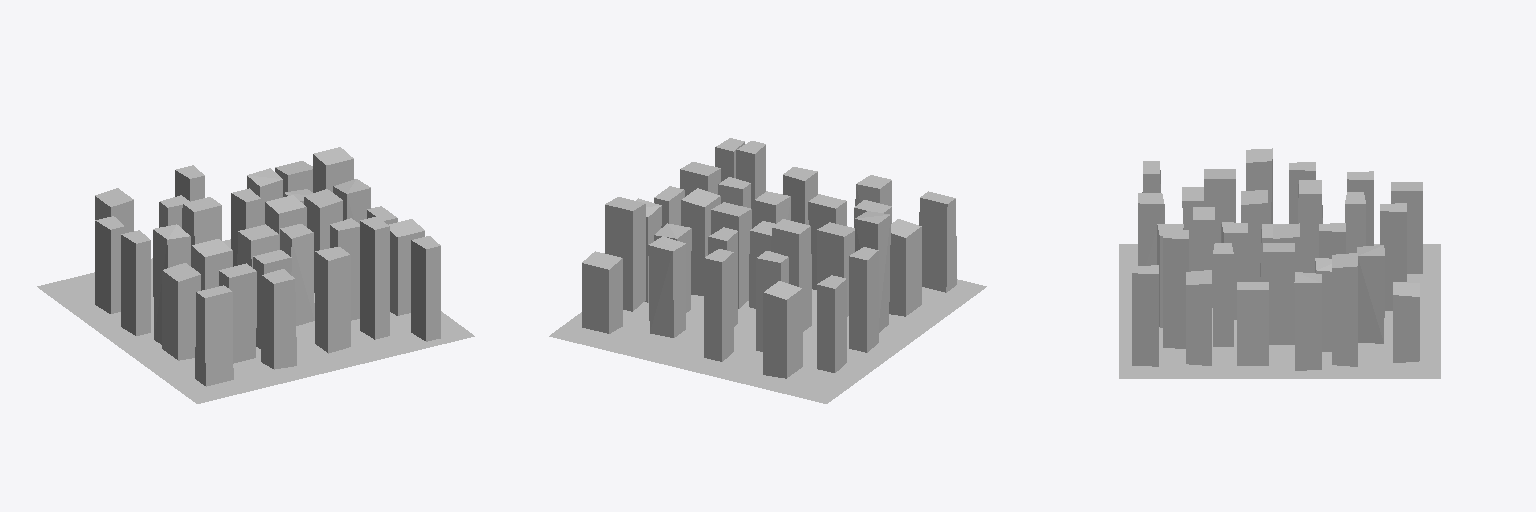
Rendered from StressTest.obj.
The picture shows the model from 3 angles: view 1: azimuth 30°, elevation 25°; view 2: azimuth 150°, elevation 25°; view 3: azimuth 270°, elevation 25°; orthographic projection.
Visible parts, largest first — view 1: Plane, Cube.002, Cube.007, Cube.010, Cube.008, Cube.006, Cube.020, Cube.011, Cube.001, Cube.022, Cube.004, Cube.012 (+16 smaller); view 2: Plane, Cube.024, Cube.026, Cube.028, Cube.007, Cube.025, Cube.027, Cube.020, Cube.006, Cube.022, Cube.019, Cube.013 (+17 smaller); view 3: Plane, Cube.028, Cube.013, Cube.010, Cube.011, Cube.014, Cube.015, Cube.026, Cube.012, Cube.025, Cube.003, Cube.027 (+17 smaller).
Boxes of the visible parts, x1=… form: Plane: x1=37, y1=239, x2=474, y2=403; Cube.002: x1=315, y1=247, x2=350, y2=353; Cube.007: x1=195, y1=285, x2=233, y2=386; Cube.010: x1=360, y1=216, x2=389, y2=339; Cube.008: x1=261, y1=269, x2=296, y2=369; Cube.006: x1=162, y1=263, x2=200, y2=360; Cube.020: x1=121, y1=230, x2=150, y2=335; Cube.011: x1=411, y1=236, x2=440, y2=341; Cube.001: x1=219, y1=263, x2=256, y2=363; Cube.022: x1=95, y1=216, x2=124, y2=313; Cube.004: x1=280, y1=224, x2=314, y2=325; Cube.012: x1=389, y1=219, x2=424, y2=315; Plane: x1=549, y1=279, x2=986, y2=403; Cube.024: x1=763, y1=281, x2=802, y2=378; Cube.026: x1=648, y1=236, x2=685, y2=337; Cube.028: x1=605, y1=197, x2=645, y2=311; Cube.007: x1=919, y1=191, x2=956, y2=292; Cube.025: x1=704, y1=249, x2=733, y2=361; Cube.027: x1=582, y1=251, x2=622, y2=333; Cube.020: x1=849, y1=247, x2=878, y2=352; Cube.006: x1=889, y1=219, x2=921, y2=316; Cube.022: x1=817, y1=275, x2=846, y2=372; Cube.019: x1=771, y1=219, x2=811, y2=331; Cube.013: x1=681, y1=188, x2=720, y2=295; Plane: x1=1119, y1=244, x2=1440, y2=378; Cube.028: x1=1332, y1=253, x2=1357, y2=366; Cube.013: x1=1263, y1=243, x2=1294, y2=344; Cube.010: x1=1163, y1=230, x2=1188, y2=348; Cube.011: x1=1132, y1=265, x2=1158, y2=366; Cube.014: x1=1237, y1=282, x2=1268, y2=365; Cube.015: x1=1294, y1=272, x2=1321, y2=370; Cube.026: x1=1357, y1=245, x2=1384, y2=343; Cube.012: x1=1186, y1=270, x2=1211, y2=365; Cube.025: x1=1380, y1=203, x2=1406, y2=310; Cube.003: x1=1213, y1=243, x2=1233, y2=346; Cube.027: x1=1393, y1=282, x2=1419, y2=362.
Size of the model in its own units: 20 by 7.62 by 20.